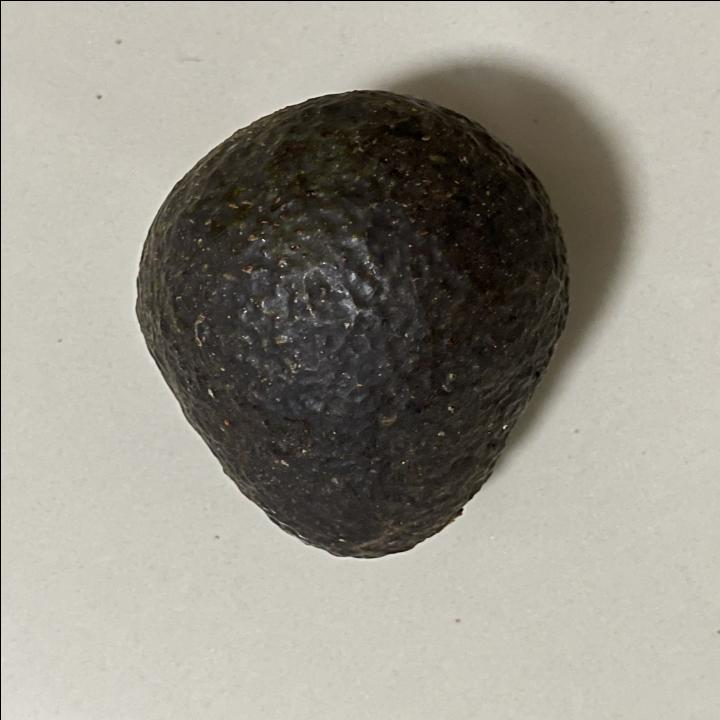Level1: (118, 78, 584, 566)
